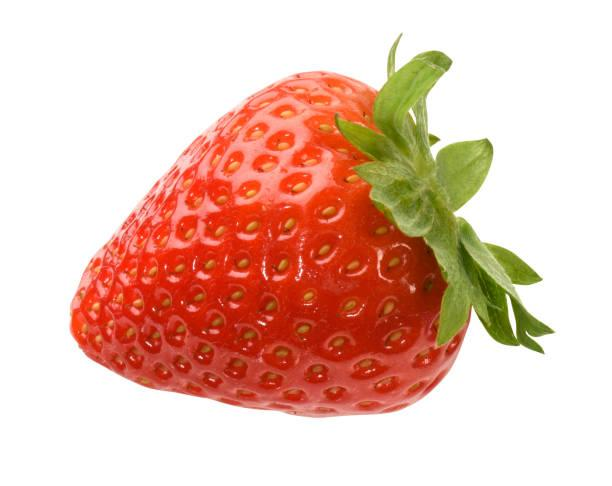strawberry: (57, 24, 573, 448)
